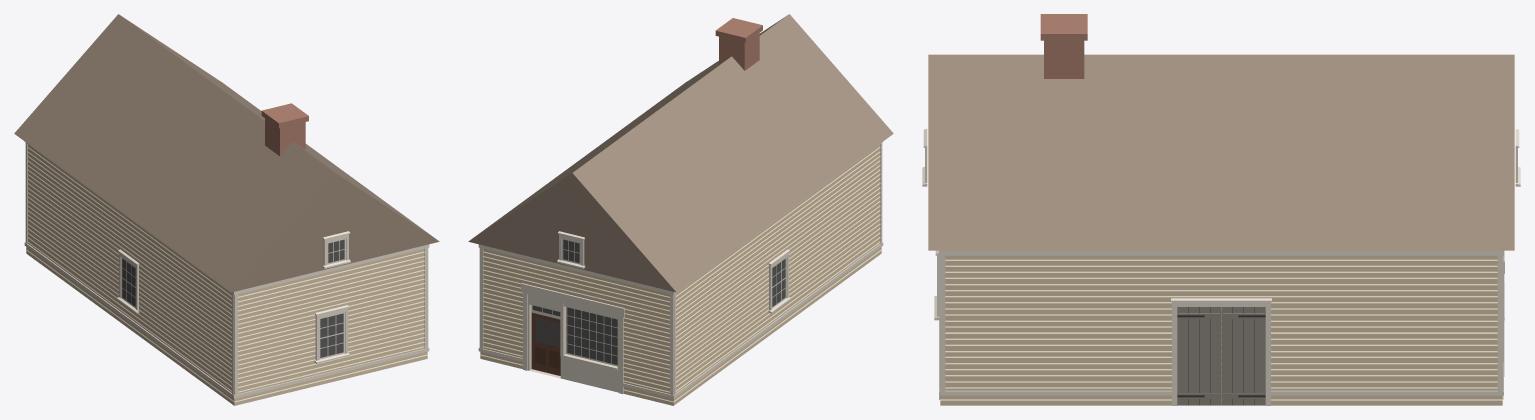
The model's file is recon_1835_core_c2_044__inferred_1835.glb.
3 renders of one model, left to right at view 1: azimuth 30°, elevation 25°; view 2: azimuth 150°, elevation 25°; view 3: azimuth 270°, elevation 25°, orthographic. The views are drawn at different scales.
Parts seen in each view (by area): view 1: recon_1835_core_c2_044__inferred_1835; view 2: recon_1835_core_c2_044__inferred_1835; view 3: recon_1835_core_c2_044__inferred_1835.
Part boxes in pixels (box(x1,y1,x2,y2)): recon_1835_core_c2_044__inferred_1835: box(14, 14, 439, 405); recon_1835_core_c2_044__inferred_1835: box(468, 14, 893, 405); recon_1835_core_c2_044__inferred_1835: box(922, 14, 1520, 405).
Bounding box in the file's own units: 6.79 × 7.32 × 12.48.
